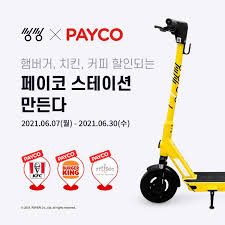kick_body: (191, 172, 225, 190)
kick_handler: (154, 18, 188, 43)
kick_neck: (161, 46, 183, 151)
kick_wheel: (141, 166, 179, 203)
